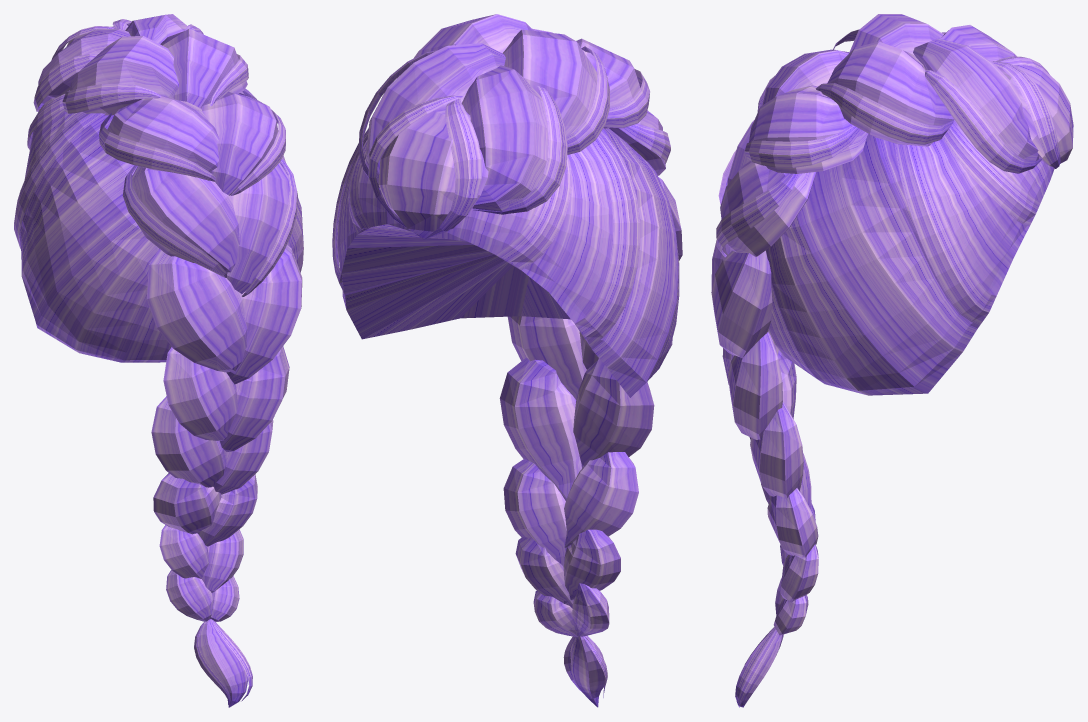
Rendered from hair_3__Object_3.glb.
3 renders of one model, left to right at view 1: azimuth 30°, elevation 25°; view 2: azimuth 150°, elevation 25°; view 3: azimuth 270°, elevation 25°, orthographic. The views are drawn at different scales.
Visible parts, largest first — view 1: geometry_0; view 2: geometry_0; view 3: geometry_0.
Part boxes in pixels (box(x1,y1,x2,y2)): geometry_0: box(14, 14, 303, 707); geometry_0: box(332, 14, 682, 707); geometry_0: box(711, 14, 1073, 707).
Bounding box in the file's own units: 1.36 × 3.29 × 1.59.
1 material, 1 textured.
